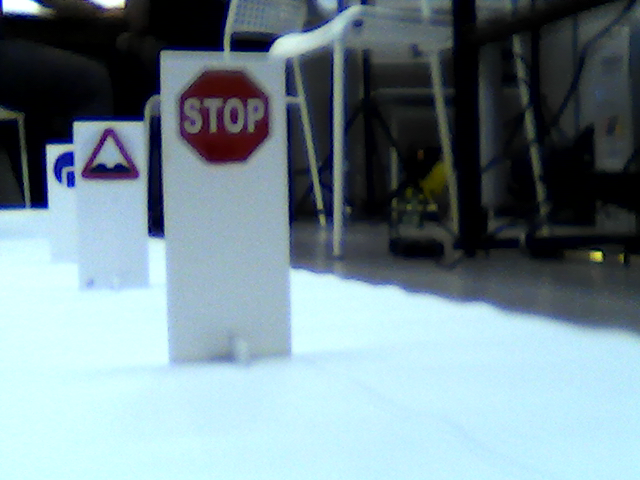Nerov: (80, 127, 140, 185)
Stop: (178, 64, 271, 167)
